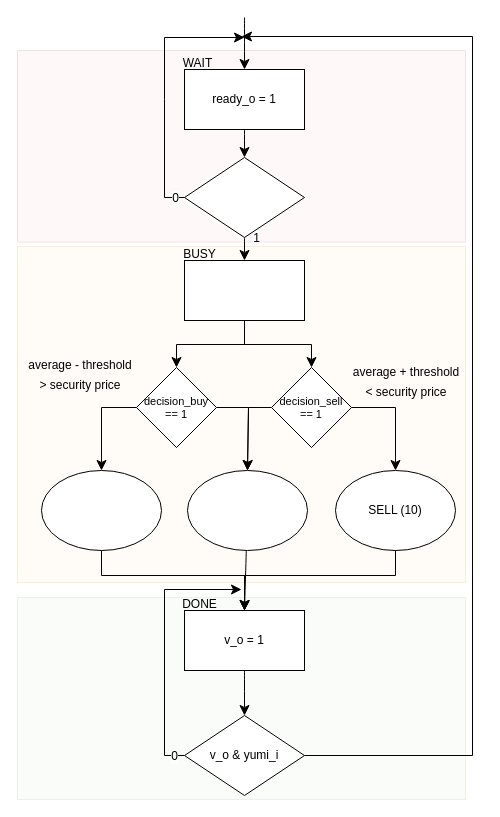
This 500x817 diagram has some shape labels left out. The box of each missing label's shape, as (x1, y1, x2, y2) in pixels:
BUY (01): (40, 470, 162, 550)
NoOp (00): (186, 470, 308, 550)
ready_o & v_i: (184, 156, 304, 238)
